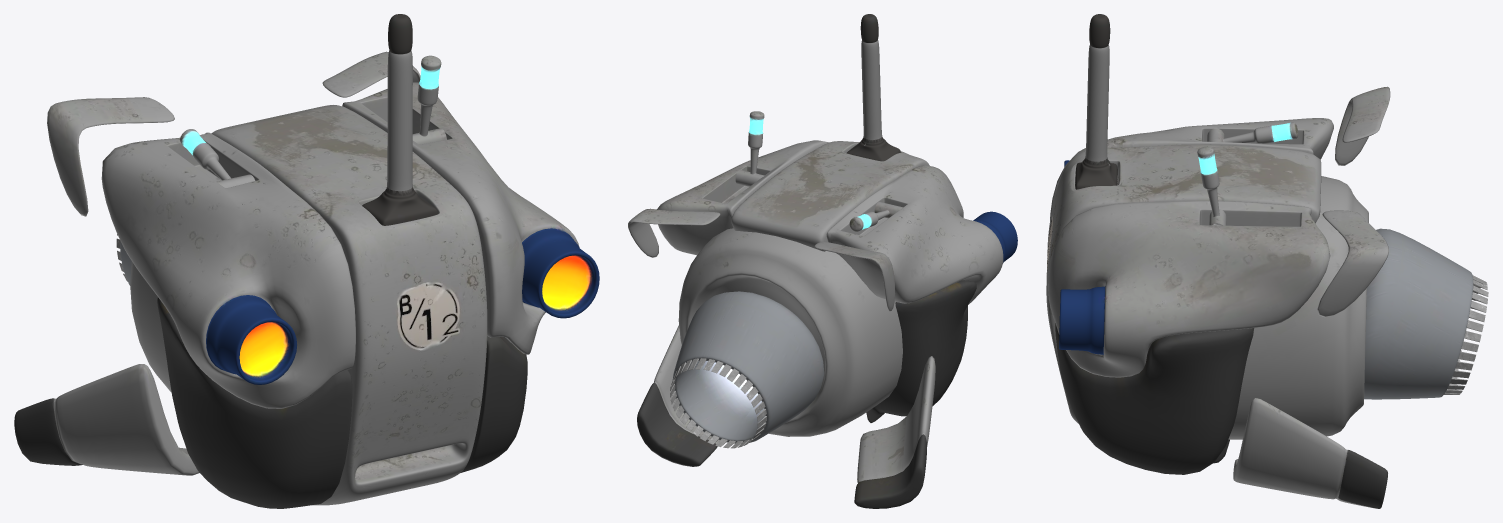
Rendered from b12_robot_from_stray.glb.
3 renders of one model, left to right at view 1: azimuth 30°, elevation 25°; view 2: azimuth 150°, elevation 25°; view 3: azimuth 270°, elevation 25°, orthographic. The views are drawn at different scales.
Parts seen in each view (by area): view 1: Object_10, Object_4, Object_6; view 2: Object_10, Object_6, Object_4, Object_8; view 3: Object_10, Object_6, Object_4, Object_8.
Boxes of the visible parts, x1=… form: Object_10: x1=14, y1=51, x2=599, y2=508; Object_4: x1=211, y1=14, x2=487, y2=505; Object_6: x1=120, y1=241, x2=171, y2=392; Object_10: x1=628, y1=111, x2=1017, y2=508; Object_6: x1=672, y1=228, x2=902, y2=443; Object_4: x1=731, y1=14, x2=929, y2=251; Object_8: x1=670, y1=358, x2=766, y2=448; Object_10: x1=1048, y1=86, x2=1390, y2=508; Object_6: x1=1228, y1=176, x2=1473, y2=439; Object_4: x1=1046, y1=14, x2=1321, y2=423; Object_8: x1=1444, y1=275, x2=1488, y2=394.
Bounding box in the file's own units: 4.73 × 5.72 × 5.15.
Materials: 4 (4 with a texture image).
